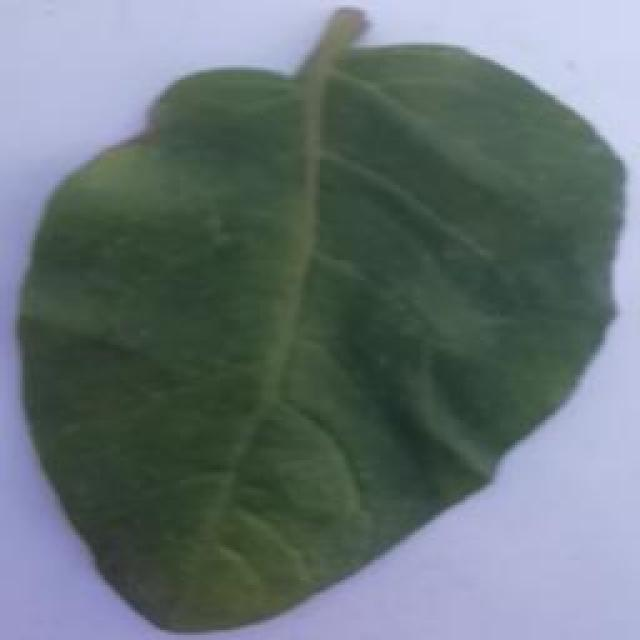Potato_Healthy: (21, 19, 616, 635)
